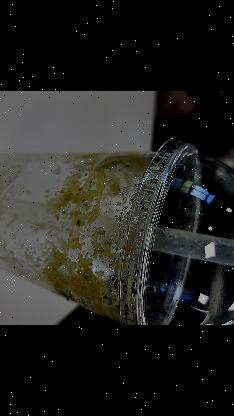Others: (0, 135, 234, 324), (0, 189, 234, 285), (119, 135, 234, 324)
